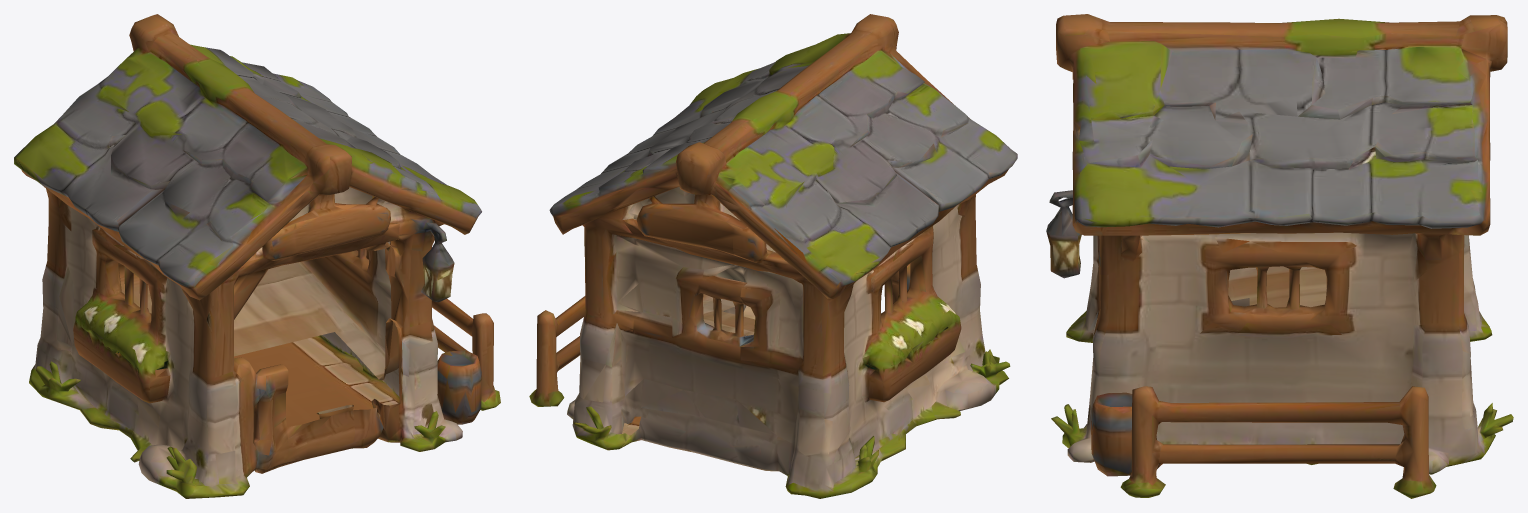
The picture shows the model from 3 angles, left to right: view 1: azimuth 30°, elevation 25°; view 2: azimuth 150°, elevation 25°; view 3: azimuth 270°, elevation 25°; orthographic projection. The views are drawn at different scales.
Visible parts, largest first — view 1: tripo_node_53b79d4a-67bd-43c6-ab93-d5aec6058f08; view 2: tripo_node_53b79d4a-67bd-43c6-ab93-d5aec6058f08; view 3: tripo_node_53b79d4a-67bd-43c6-ab93-d5aec6058f08.
Boxes of the visible parts, <box> form: tripo_node_53b79d4a-67bd-43c6-ab93-d5aec6058f08: <box>14,14,500,498</box>; tripo_node_53b79d4a-67bd-43c6-ab93-d5aec6058f08: <box>529,14,1017,498</box>; tripo_node_53b79d4a-67bd-43c6-ab93-d5aec6058f08: <box>1046,14,1513,498</box>.
Bounding box in the file's own units: 3.37 × 3 × 3.4.
1 material, 1 textured.
